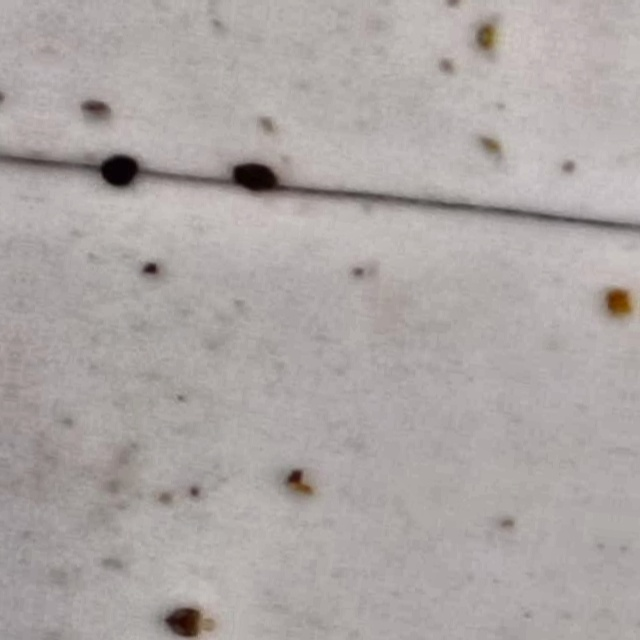varroa: (230, 159, 283, 196), (99, 151, 141, 187)
